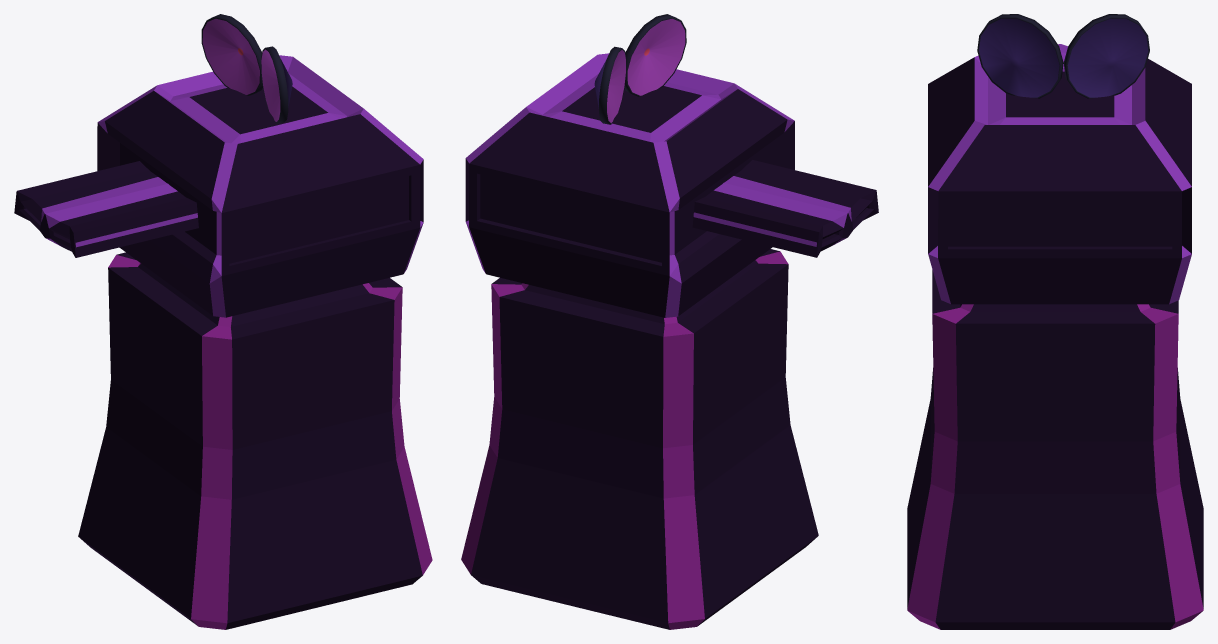
File: Tower_T2.fbx
3 views of the same model, side by side, from view 1: azimuth 30°, elevation 25°; view 2: azimuth 150°, elevation 25°; view 3: azimuth 270°, elevation 25° (orthographic). The views are drawn at different scales.
Visible parts, largest first — view 1: TowerBaseT2, TowerHeadT2, TowerCannonT2, TowerEarsT2; view 2: TowerBaseT2, TowerHeadT2, TowerCannonT2, TowerEarsT2; view 3: TowerBaseT2, TowerHeadT2, TowerEarsT2.
Part boxes in pixels (bbox=[...]): TowerBaseT2: bbox=[78, 252, 432, 629]; TowerHeadT2: bbox=[97, 55, 423, 317]; TowerCannonT2: bbox=[14, 161, 198, 257]; TowerEarsT2: bbox=[201, 14, 292, 123]; TowerBaseT2: bbox=[461, 249, 818, 629]; TowerHeadT2: bbox=[465, 53, 794, 317]; TowerCannonT2: bbox=[692, 160, 878, 257]; TowerEarsT2: bbox=[594, 14, 686, 124]; TowerBaseT2: bbox=[907, 270, 1203, 629]; TowerHeadT2: bbox=[928, 52, 1191, 304]; TowerEarsT2: bbox=[977, 14, 1149, 98].
Bounding box in the file's own units: 163 × 248 × 120.
